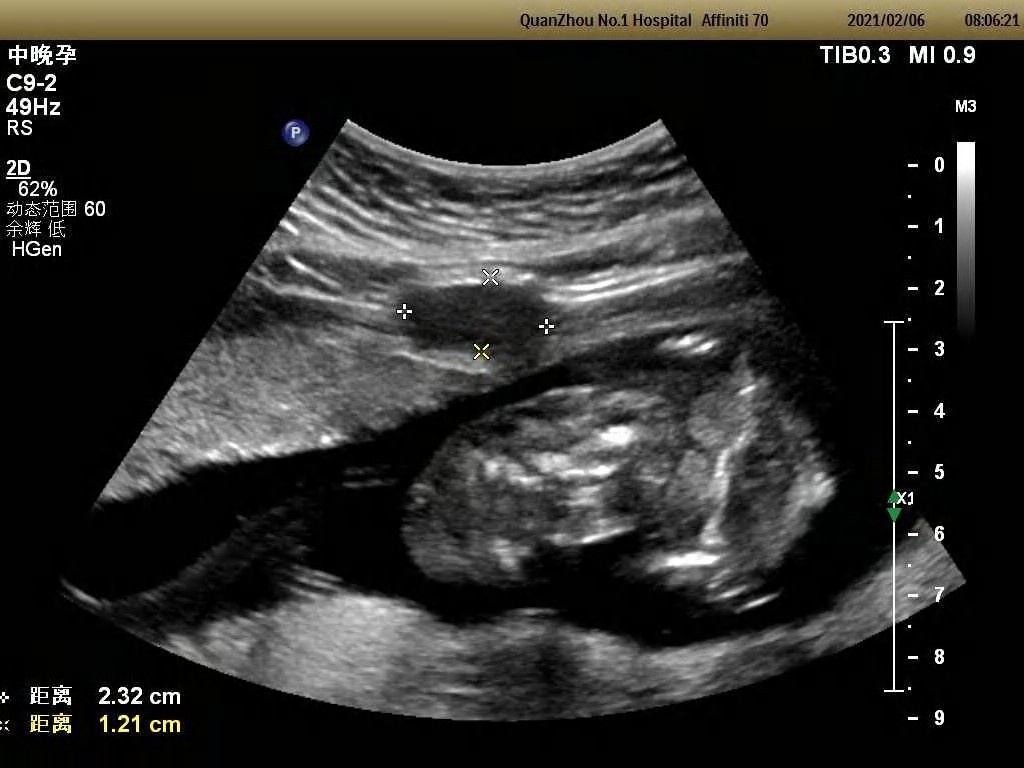肌瘤: (405, 289, 544, 349)
